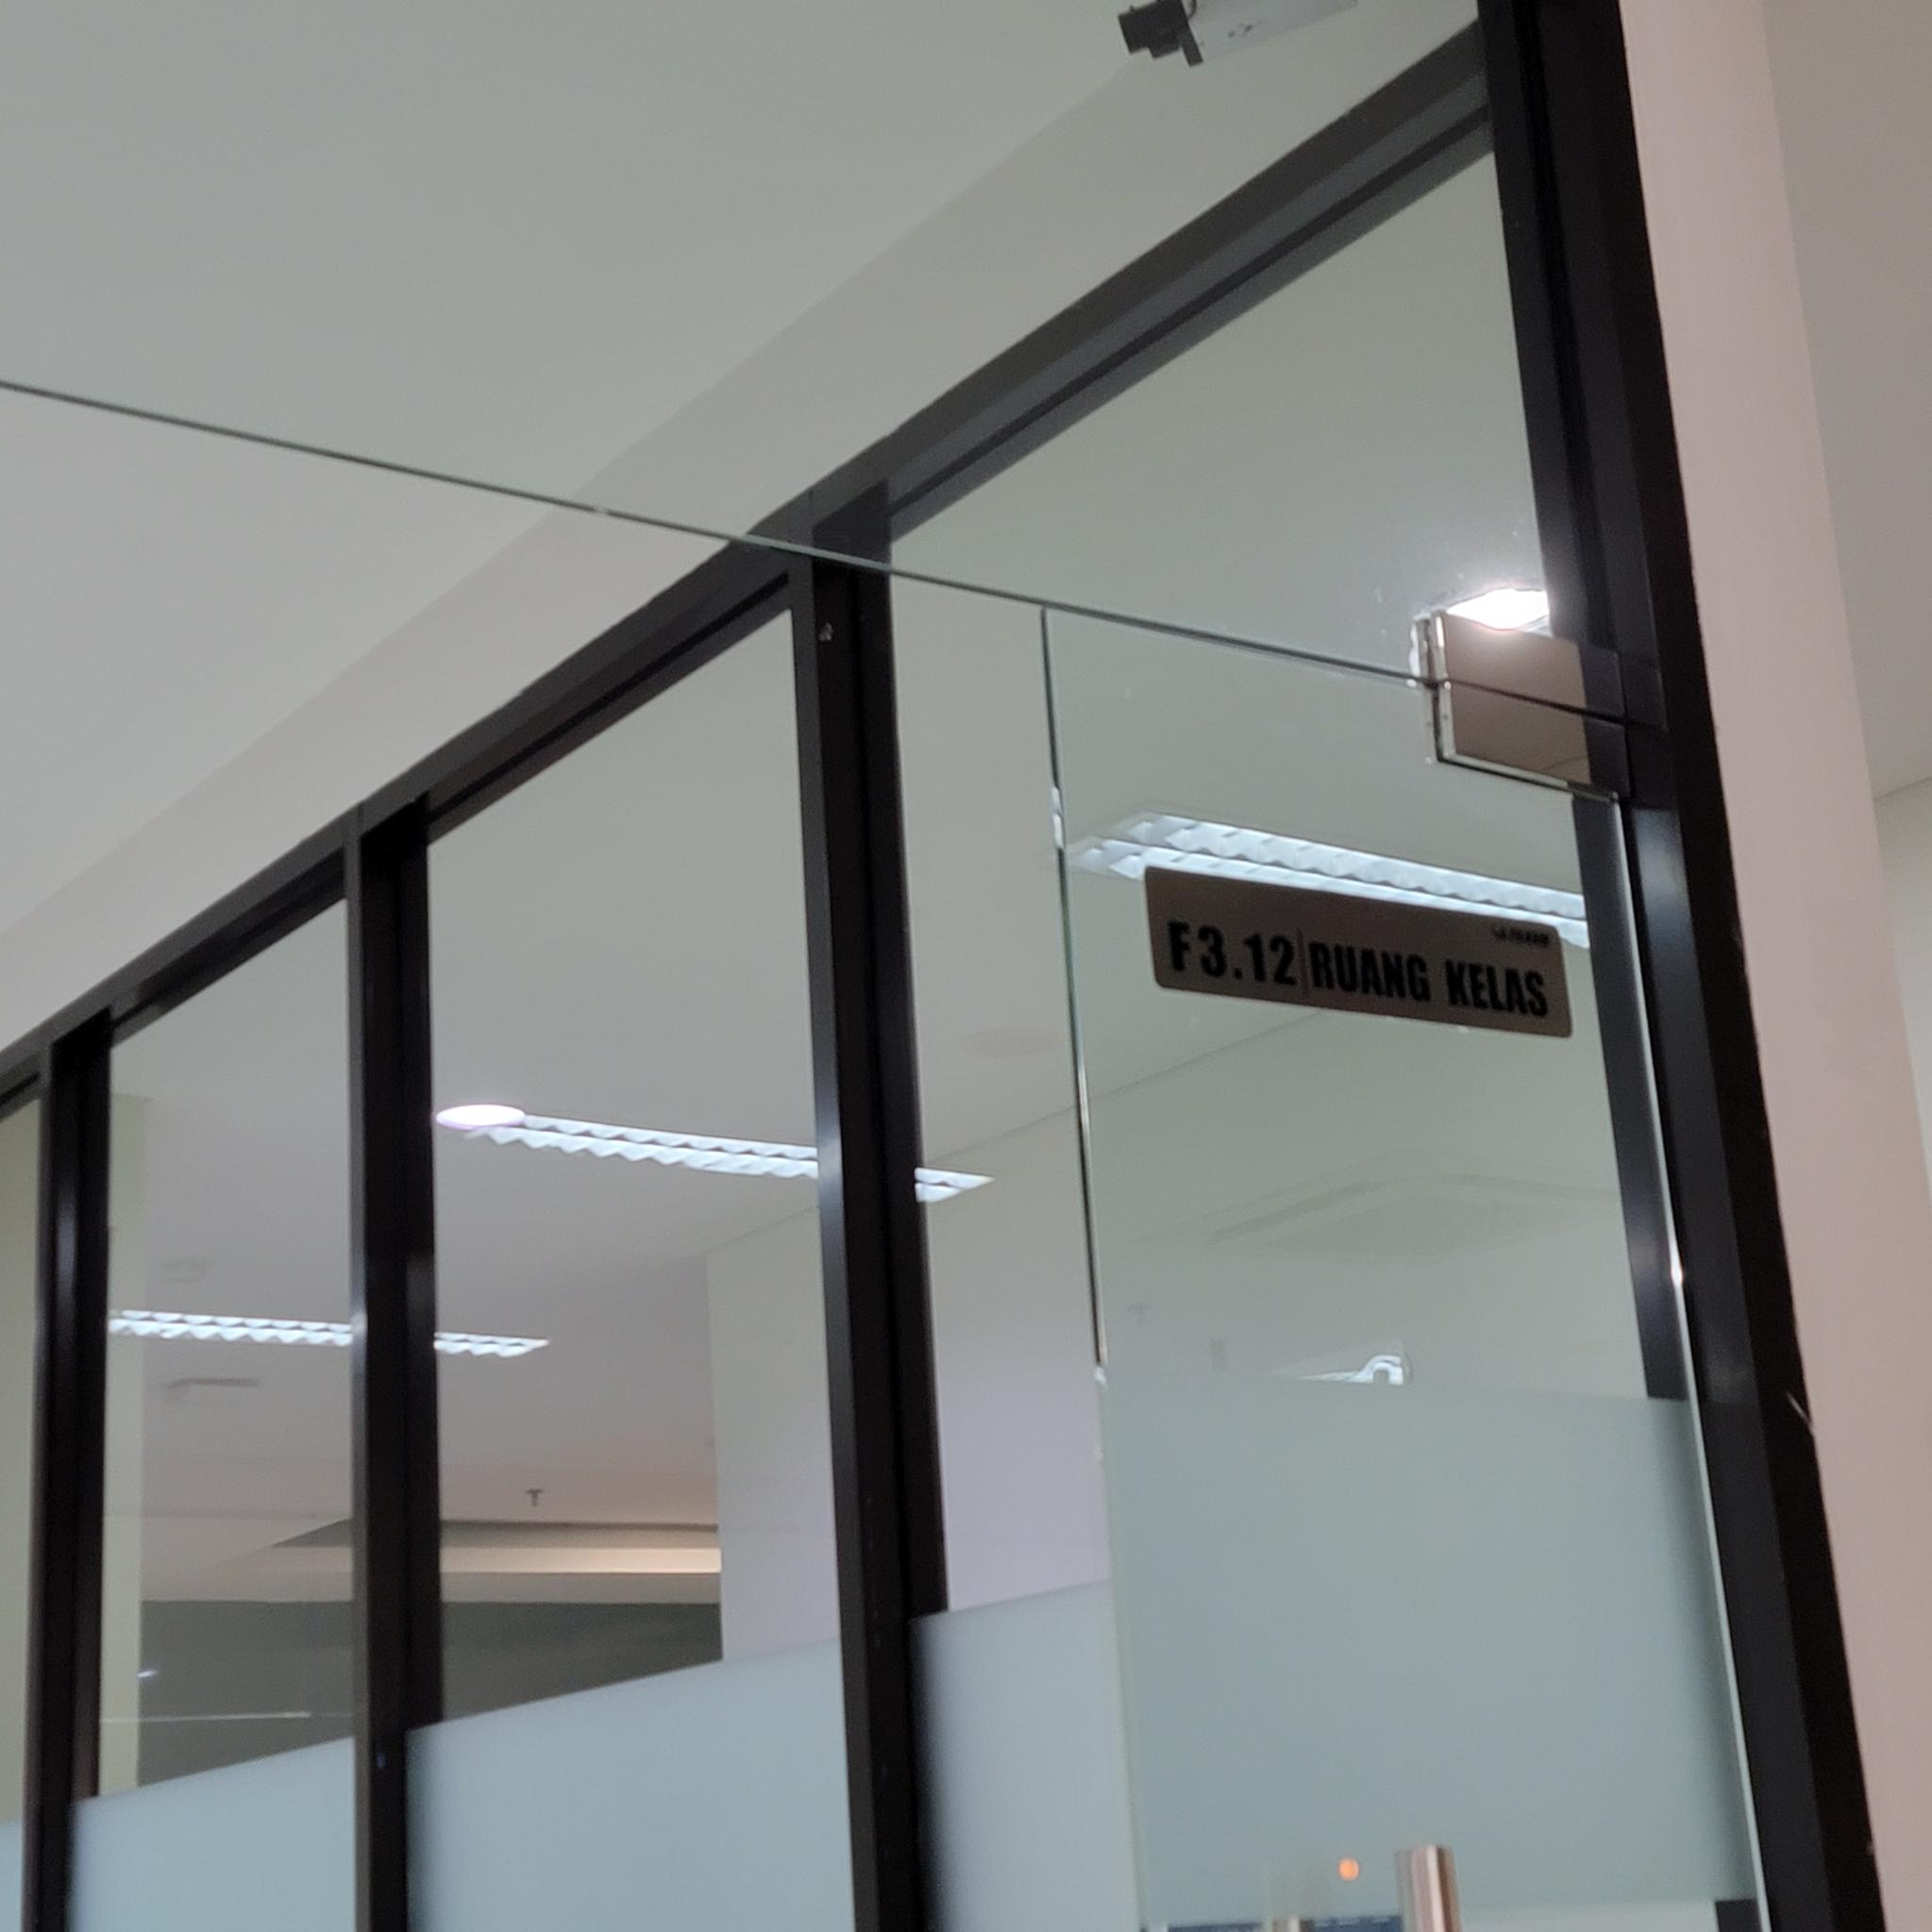plate: (1146, 862, 1575, 1039)
